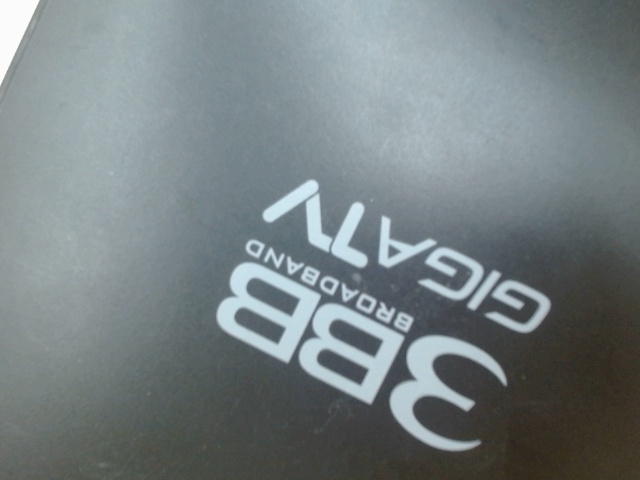AG_3BB: (202, 171, 555, 457)
